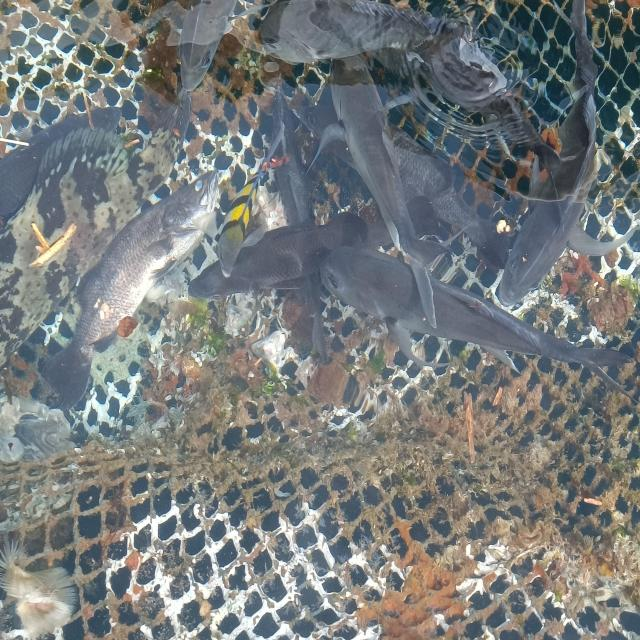ikan: (318, 244, 634, 399), (37, 167, 222, 417), (493, 0, 637, 308), (304, 54, 453, 330)
